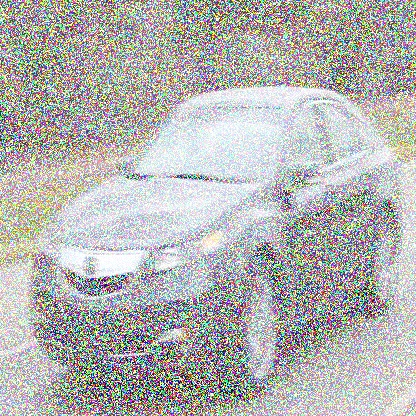Vehicle: (30, 85, 403, 402)
